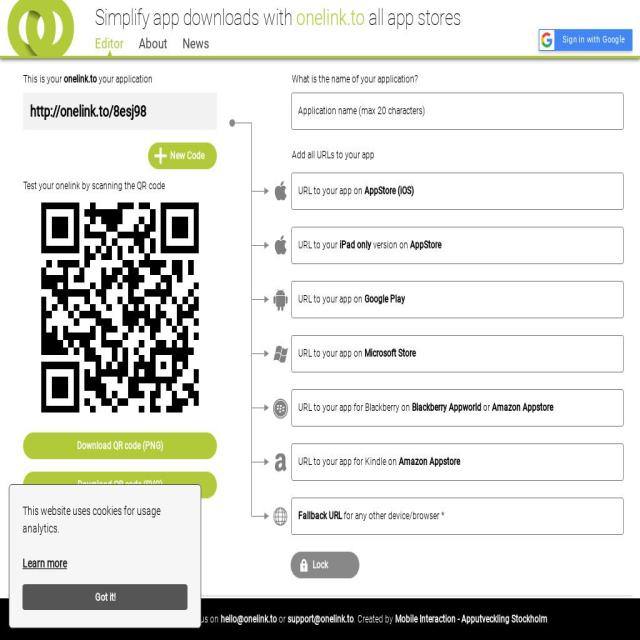button: (23, 583, 188, 611), (22, 554, 67, 573), (95, 35, 124, 60)
field: (292, 93, 623, 129), (292, 173, 623, 209), (292, 228, 623, 264), (292, 282, 623, 318), (292, 336, 623, 372), (292, 390, 623, 426), (292, 444, 623, 480), (292, 498, 623, 534), (23, 92, 217, 130)
image: (36, 195, 204, 420), (229, 119, 252, 215), (251, 443, 270, 498), (251, 92, 270, 146), (251, 172, 270, 226), (251, 227, 270, 281), (251, 281, 270, 335), (251, 335, 270, 389), (251, 389, 270, 443), (251, 498, 270, 552), (272, 100, 289, 154), (272, 234, 289, 258), (272, 288, 289, 312), (272, 342, 289, 366), (272, 180, 289, 203), (272, 397, 289, 420), (272, 451, 289, 474), (272, 505, 289, 528), (607, 100, 623, 122), (607, 180, 623, 202), (607, 234, 623, 256), (607, 288, 623, 310), (607, 505, 623, 527), (607, 343, 623, 364), (607, 397, 623, 418), (607, 451, 623, 472), (154, 148, 167, 164), (297, 557, 309, 573), (542, 32, 552, 48)
link: (394, 613, 548, 625), (287, 613, 354, 625), (220, 613, 277, 625), (138, 35, 168, 52), (182, 35, 210, 52)
text: (251, 71, 640, 88), (251, 147, 640, 164), (95, 5, 296, 30), (22, 503, 160, 535), (23, 177, 239, 195), (365, 5, 461, 30), (296, 5, 365, 30), (92, 613, 220, 625), (298, 105, 425, 117), (29, 102, 113, 119), (298, 402, 412, 413), (342, 510, 444, 522), (298, 456, 399, 467), (77, 440, 163, 452), (78, 479, 162, 491), (298, 185, 364, 197), (298, 293, 364, 305), (412, 402, 481, 413), (298, 348, 364, 359), (563, 34, 625, 45), (492, 402, 553, 413), (399, 456, 460, 467), (97, 73, 152, 85), (364, 185, 414, 197), (364, 348, 416, 359), (298, 510, 342, 522), (353, 613, 395, 625), (23, 73, 64, 85), (298, 239, 339, 251), (364, 293, 405, 305), (371, 239, 410, 251), (170, 150, 204, 162), (64, 73, 97, 85), (339, 239, 372, 251), (410, 239, 441, 251), (313, 559, 328, 571), (276, 613, 288, 625), (481, 402, 492, 413)
